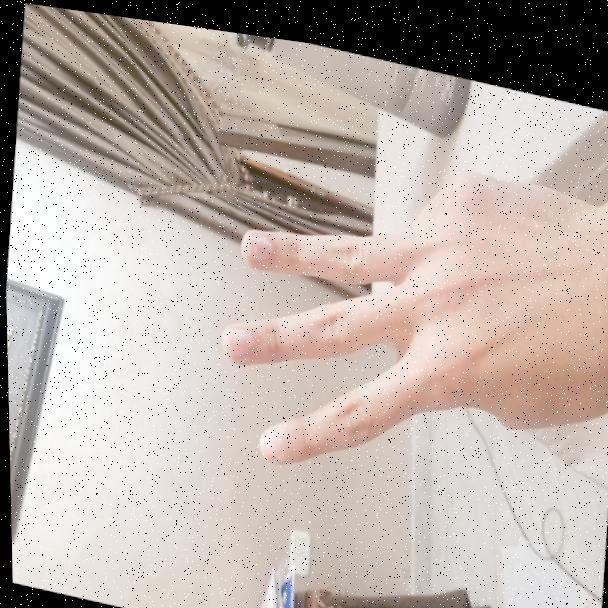five: (209, 120, 608, 519)
